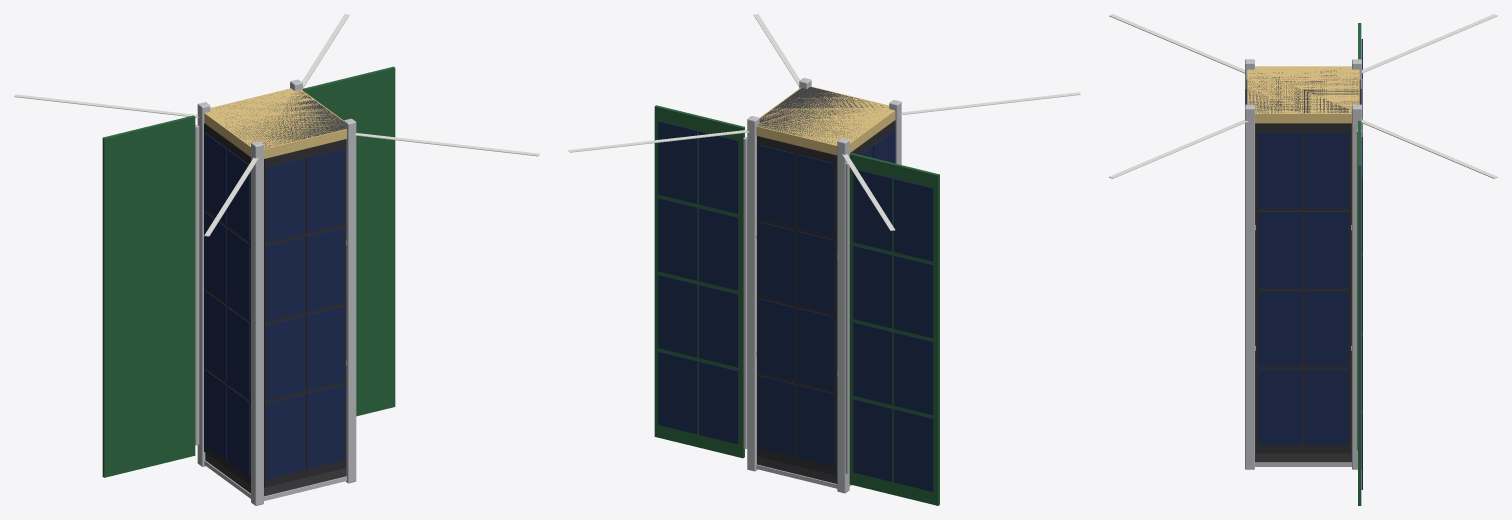
File: cubesat_3u.glb
The picture shows the model from 3 angles, left to right: view 1: azimuth 30°, elevation 25°; view 2: azimuth 150°, elevation 25°; view 3: azimuth 270°, elevation 25°; orthographic projection. The views are drawn at different scales.
Parts seen in each view (by area): view 1: CubeSat_WingBacks, CubeSat_SolarCells, CubeSat_Rails, CubeSat_PanelSubstrate, CubeSat_AntennaDeployer, CubeSat_Structure, CubeSat_Antennas; view 2: CubeSat_SolarCells, CubeSat_WingBacks, CubeSat_Rails, CubeSat_AntennaDeployer, CubeSat_PanelSubstrate, CubeSat_Structure, CubeSat_Antennas; view 3: CubeSat_SolarCells, CubeSat_Rails, CubeSat_AntennaDeployer, CubeSat_PanelSubstrate, CubeSat_Structure, CubeSat_Antennas, CubeSat_WingBacks.
Part boxes in pixels (left/top/right/bottom): CubeSat_WingBacks: left=102, top=66, right=395, bottom=477; CubeSat_SolarCells: left=204, top=132, right=344, bottom=478; CubeSat_Rails: left=195, top=79, right=356, bottom=505; CubeSat_PanelSubstrate: left=204, top=123, right=346, bottom=487; CubeSat_AntennaDeployer: left=204, top=88, right=346, bottom=158; CubeSat_Structure: left=205, top=90, right=346, bottom=496; CubeSat_Antennas: left=14, top=14, right=539, bottom=236; CubeSat_SolarCells: left=658, top=121, right=933, bottom=491; CubeSat_WingBacks: left=654, top=105, right=939, bottom=505; CubeSat_Rails: left=743, top=78, right=901, bottom=493; CubeSat_AntennaDeployer: left=756, top=86, right=895, bottom=155; CubeSat_PanelSubstrate: left=757, top=120, right=895, bottom=475; CubeSat_Structure: left=757, top=87, right=883, bottom=483; CubeSat_Antennas: left=568, top=14, right=1080, bottom=230; CubeSat_SolarCells: left=1245, top=39, right=1362, bottom=489; CubeSat_Rails: left=1245, top=59, right=1362, bottom=469; CubeSat_AntennaDeployer: left=1247, top=66, right=1359, bottom=123; CubeSat_PanelSubstrate: left=1246, top=79, right=1360, bottom=453; CubeSat_Structure: left=1248, top=68, right=1358, bottom=462; CubeSat_Antennas: left=1109, top=14, right=1497, bottom=178; CubeSat_WingBacks: left=1358, top=23, right=1361, bottom=505.
Bounding box in the file's own units: 0.332 × 0.3525 × 0.332.
